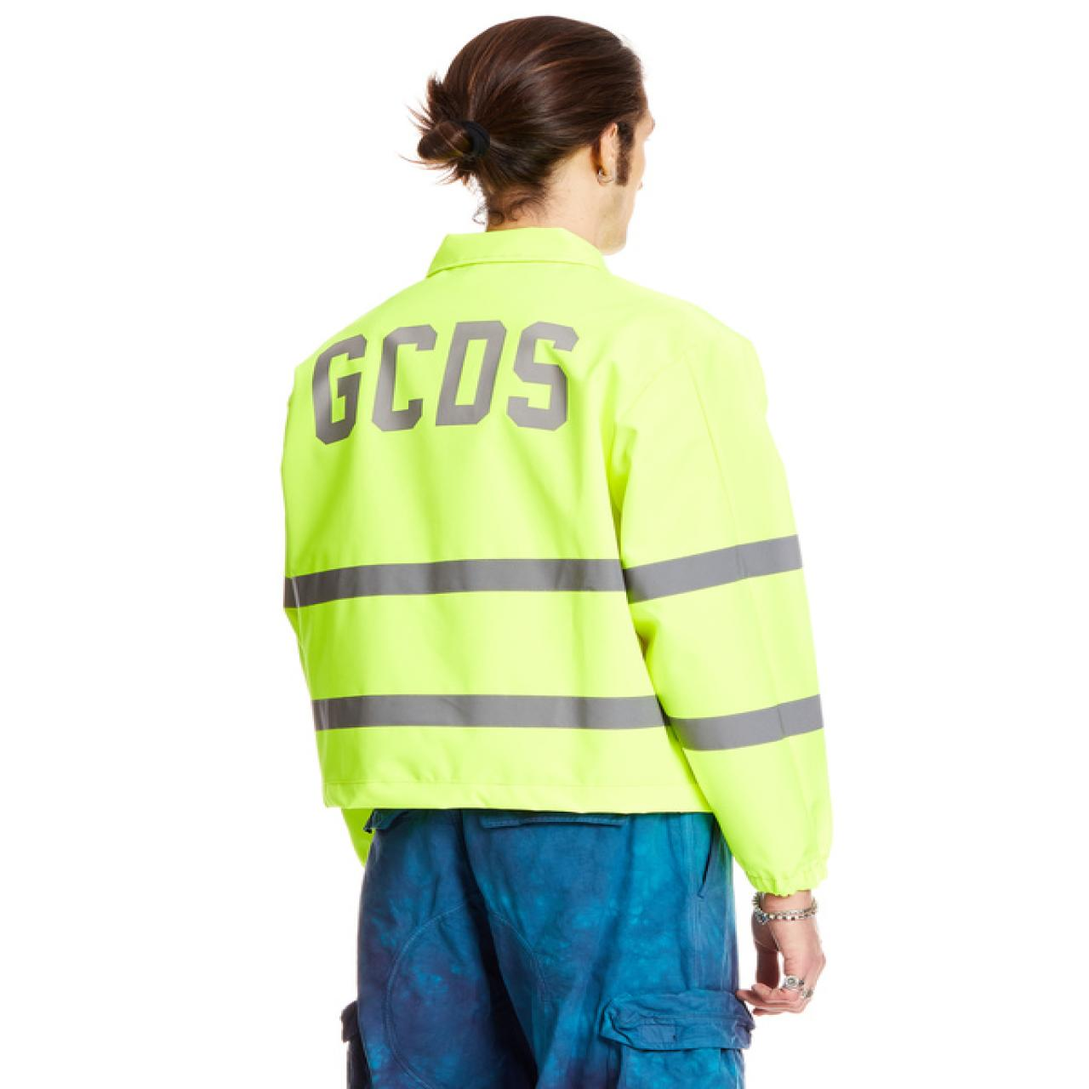NO_Safety_Vest: (272, 239, 841, 841)
Person: (241, 0, 874, 1087)
